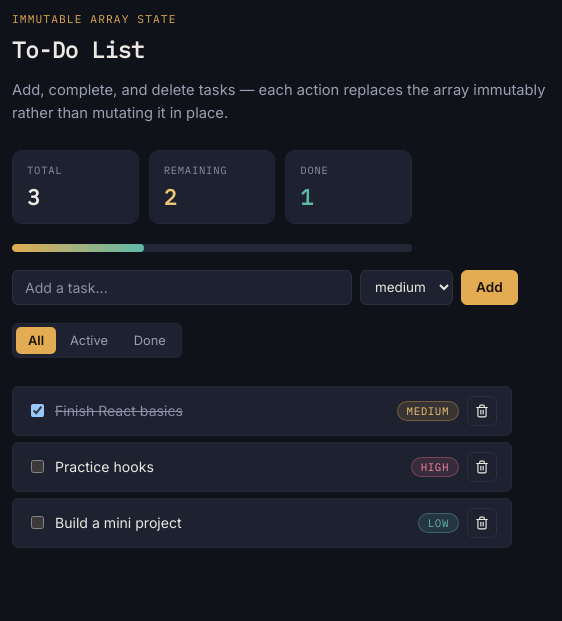
Task8_TodoList › adds a new task
In the field with placeholder "Add a task...": point(182, 287) [12,270,352,305], type "Write tests"
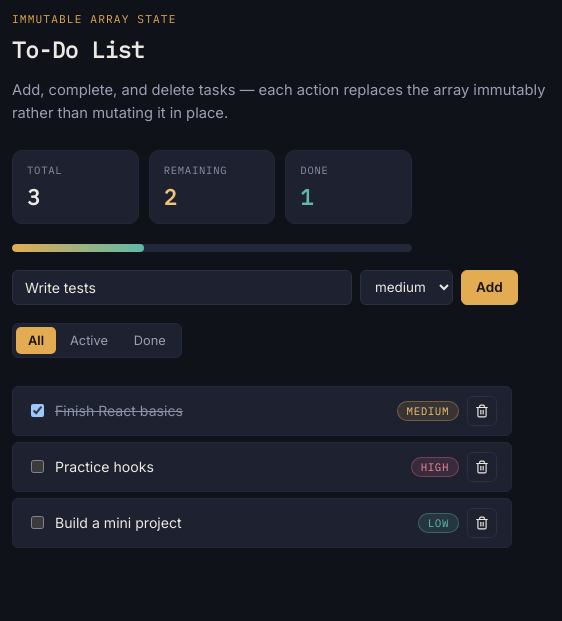
Click the button "Add": point(489, 287) [461,270,518,305]
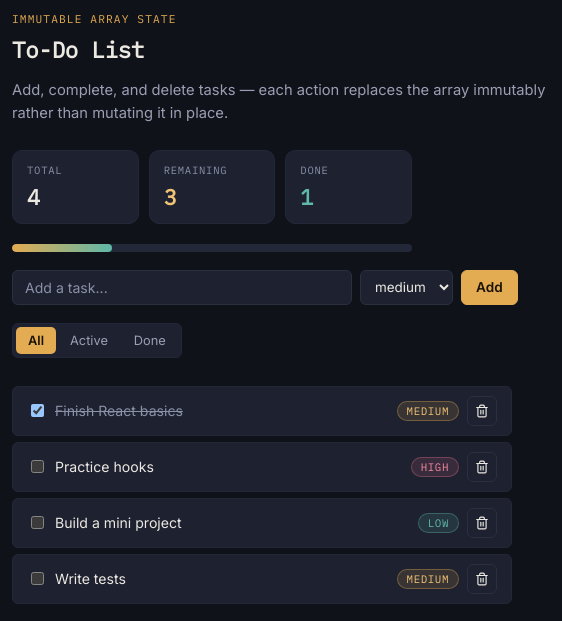
Expected: the text "Write tests" is shown, [27,569,126,588]
